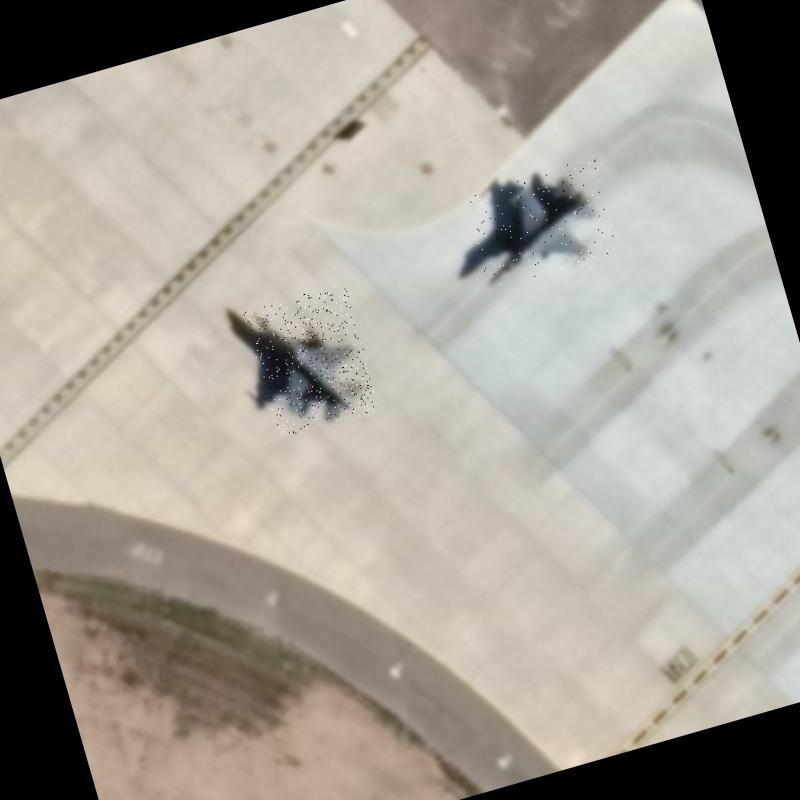A5: (242, 282, 382, 438), (460, 156, 622, 290)
